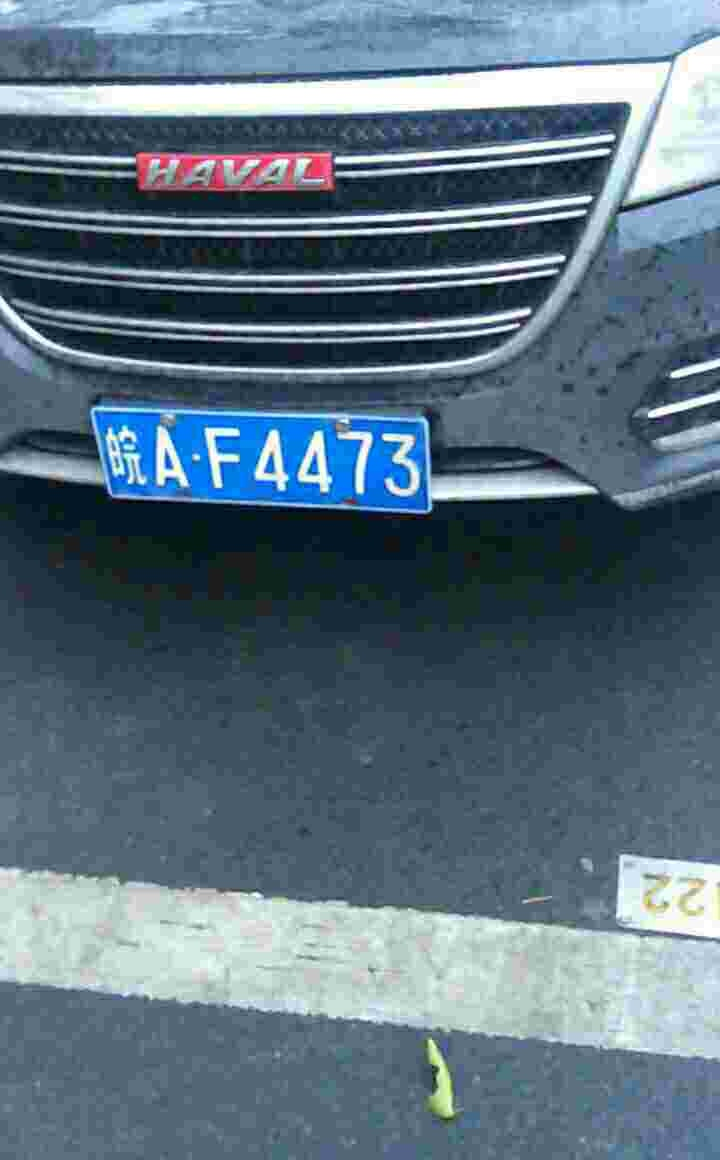license_plate: (93, 397, 434, 514)
